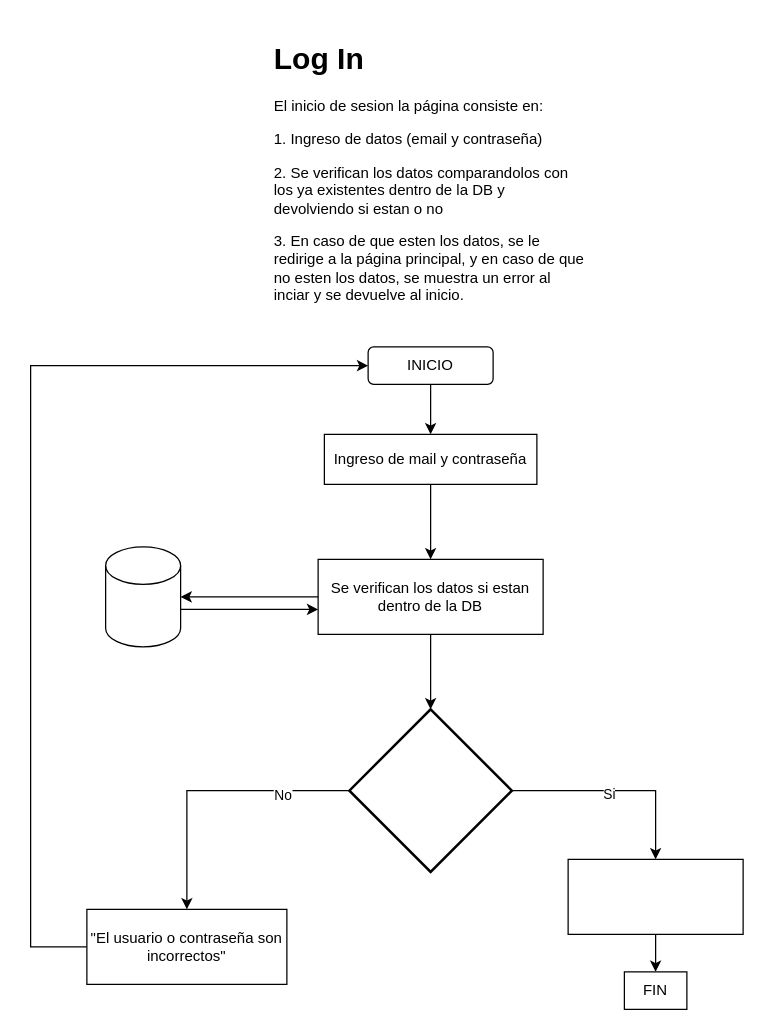
Some shapes in this 765 by 1031 pixel diagram are drawn without their labels. The shapes that lost their labels are listed below. From the top down, each one's centre as x and y in pixels, then its label:
At (142,596): "DB".
At (430,790): "Si los datos estan dentro de la DB".
At (655,896): "Se redirige a la página principal".
